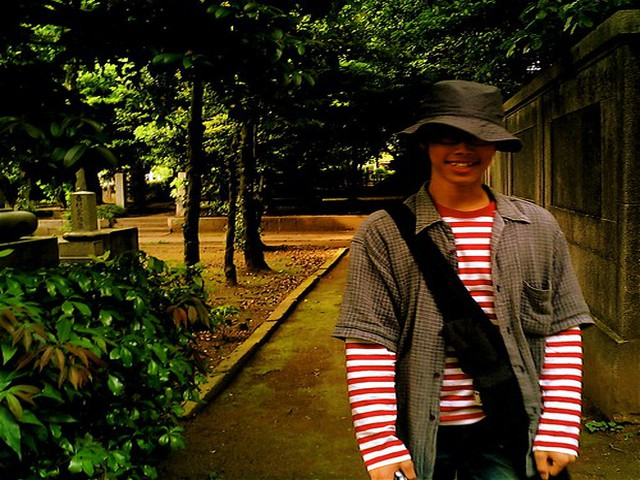Person: (343, 78, 610, 478)
